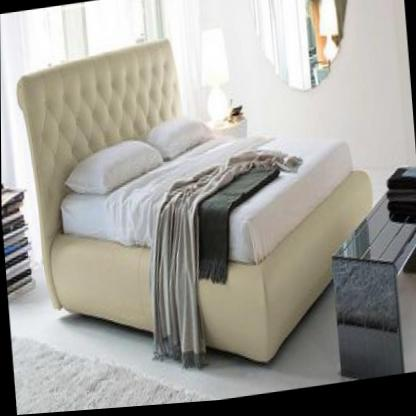Bed: (14, 12, 384, 400)
Table: (324, 185, 416, 388)
